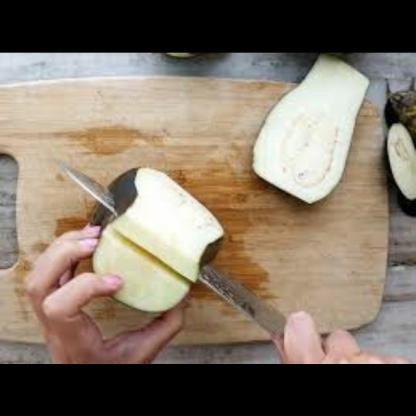eggplant: (57, 147, 232, 318), (242, 56, 381, 209)
